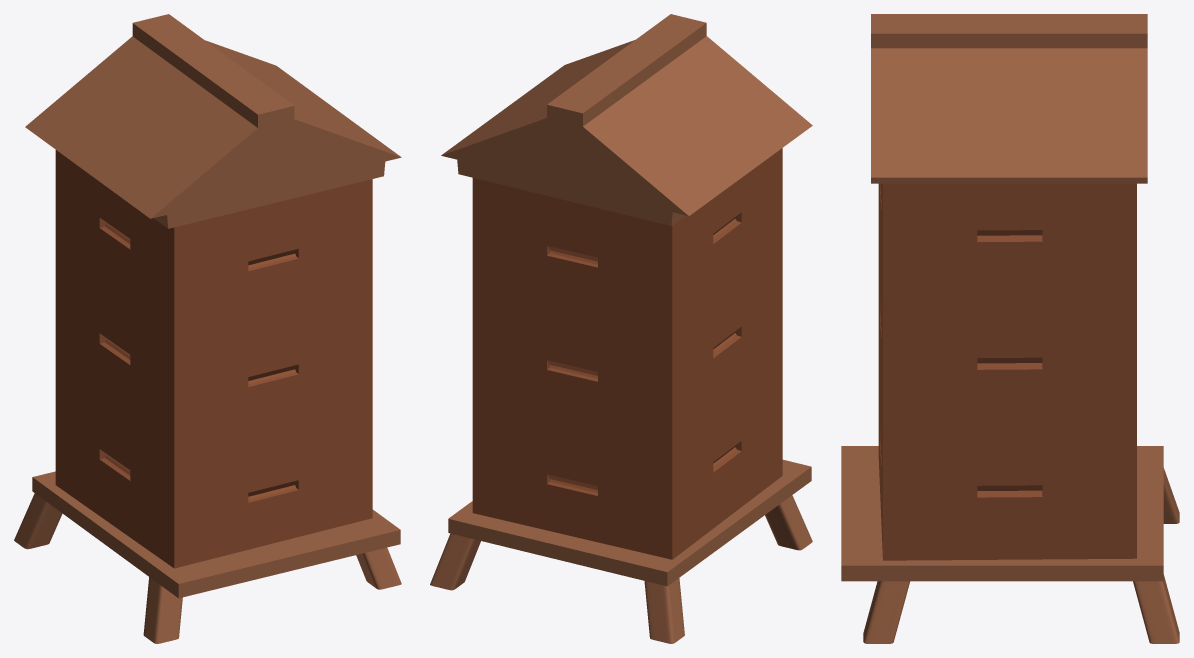
3 renders of one model, left to right at view 1: azimuth 30°, elevation 25°; view 2: azimuth 150°, elevation 25°; view 3: azimuth 270°, elevation 25°, orthographic. The views are drawn at different scales.
Parts seen in each view (by area): view 1: walls, roof, platform, foot, foot.001, foot.002; view 2: walls, roof, platform, foot.001, foot.003, foot; view 3: walls, roof, platform, foot.003, foot.002, foot.001.
Boxes of the visible parts, left/top/right/bottom form: walls: left=55, top=150, right=372, bottom=568; roof: left=25, top=14, right=401, bottom=228; platform: left=32, top=471, right=400, bottom=598; foot: left=143, top=577, right=182, bottom=643; foot.001: left=14, top=493, right=62, bottom=549; foot.002: left=356, top=547, right=401, bottom=589; walls: left=472, top=148, right=782, bottom=559; roof: left=441, top=14, right=812, bottom=225; platform: left=448, top=459, right=811, bottom=586; foot.001: left=644, top=578, right=684, bottom=643; foot.003: left=430, top=533, right=480, bottom=590; foot: left=765, top=495, right=812, bottom=550; walls: left=878, top=183, right=1136, bottom=560; roof: left=871, top=14, right=1147, bottom=183; platform: left=841, top=446, right=1163, bottom=581; foot.003: left=1133, top=574, right=1179, bottom=643; foot.002: left=863, top=581, right=909, bottom=643; foot.001: left=1163, top=468, right=1179, bottom=523.
Bounding box in the file's own units: 0.787 × 1.5 × 0.8315.
